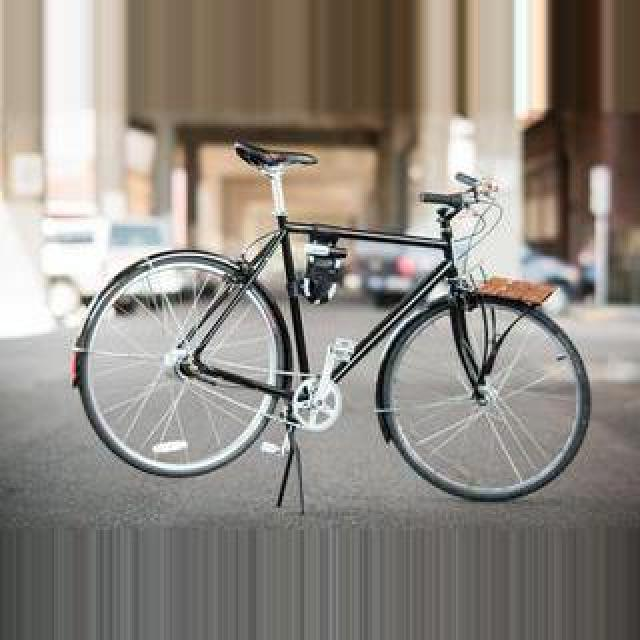Person: (70, 136, 596, 516)
